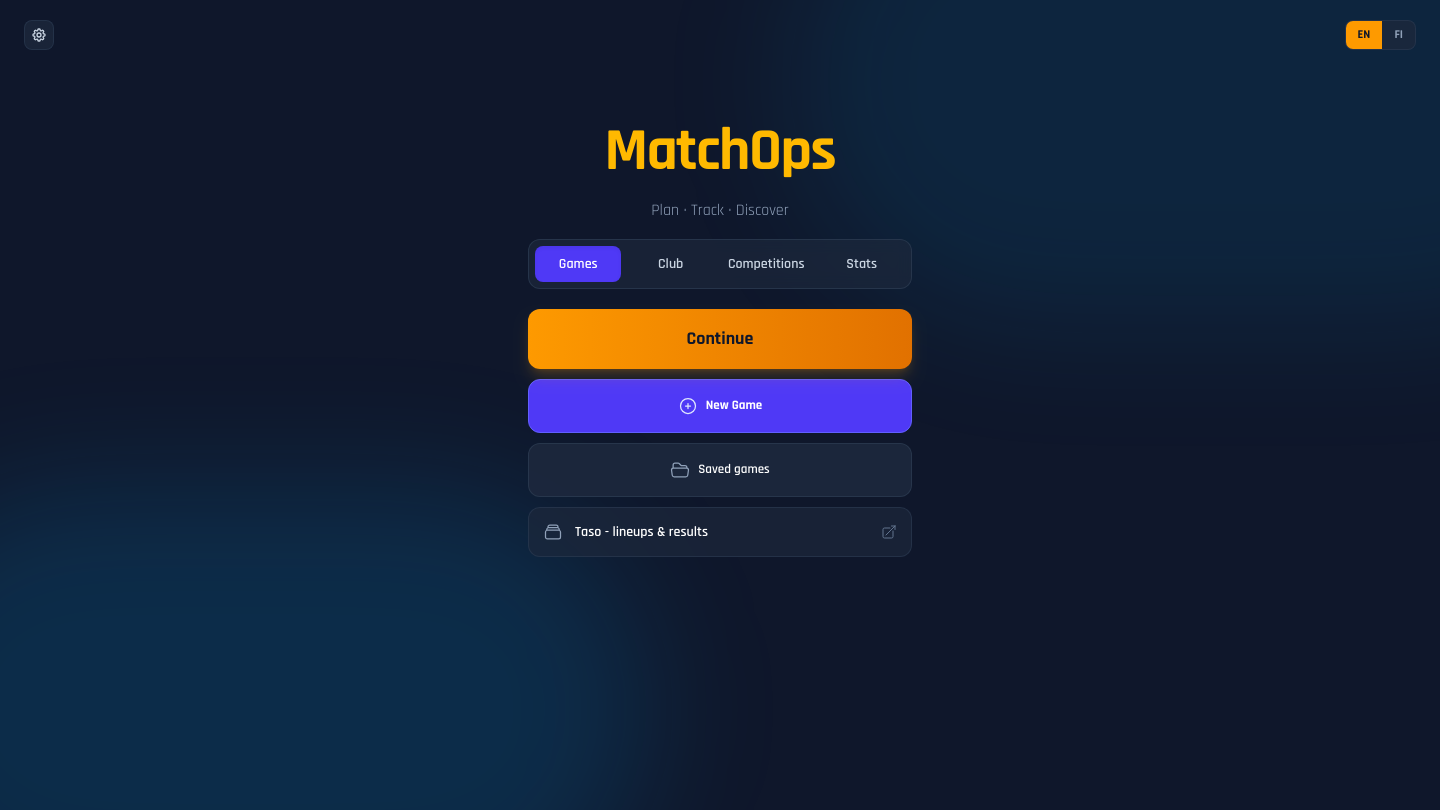
Home shell tab bar (two-level restructure PR 1.2) › unwired Team-panel rows render DISABLED - never silently dead-clickable
Click the tab "Club" at (671, 264), box [628,246,714,282]
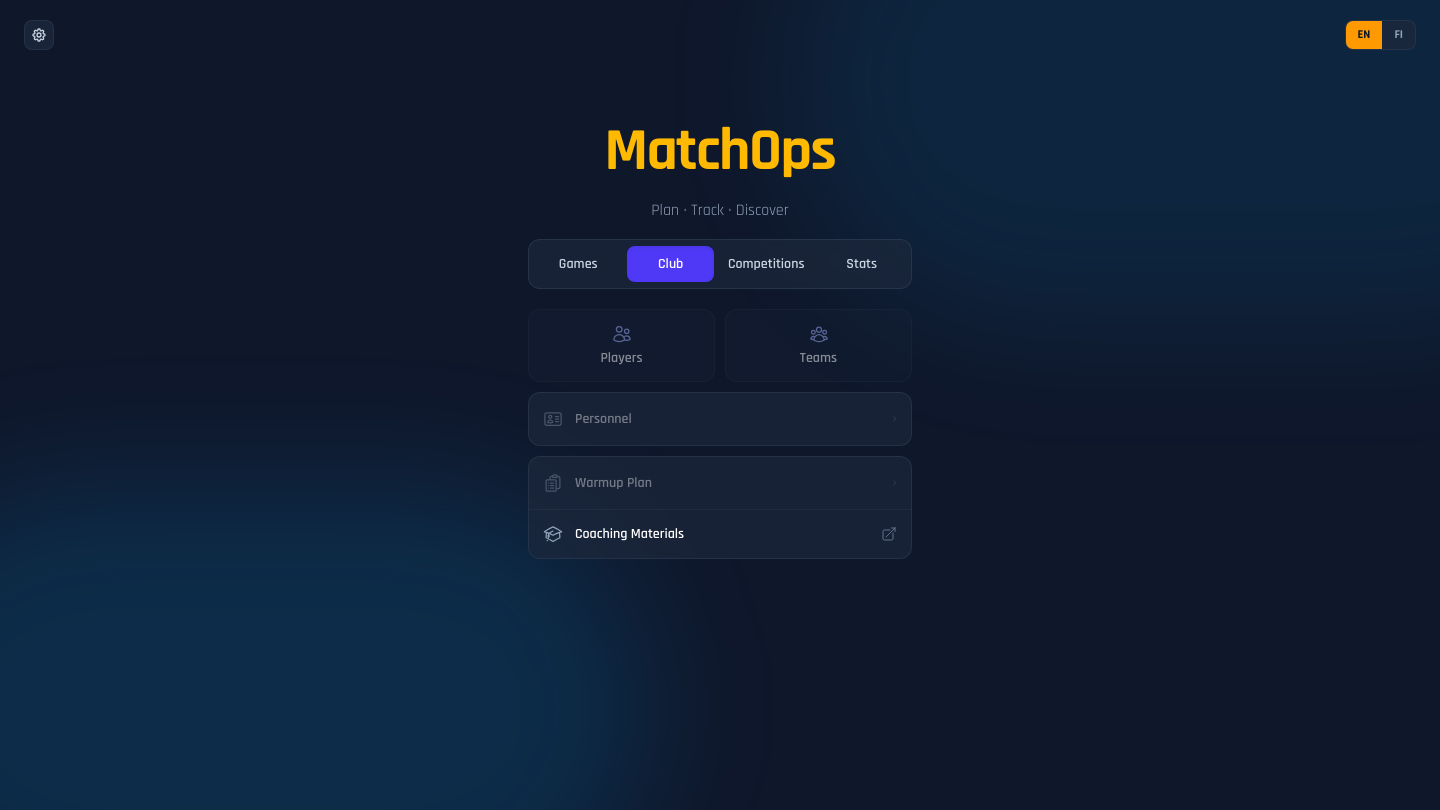
Check: the button "Players" is disabled, box [528,308,715,382]
Check: the button "Teams" is disabled, box [725,308,912,382]
